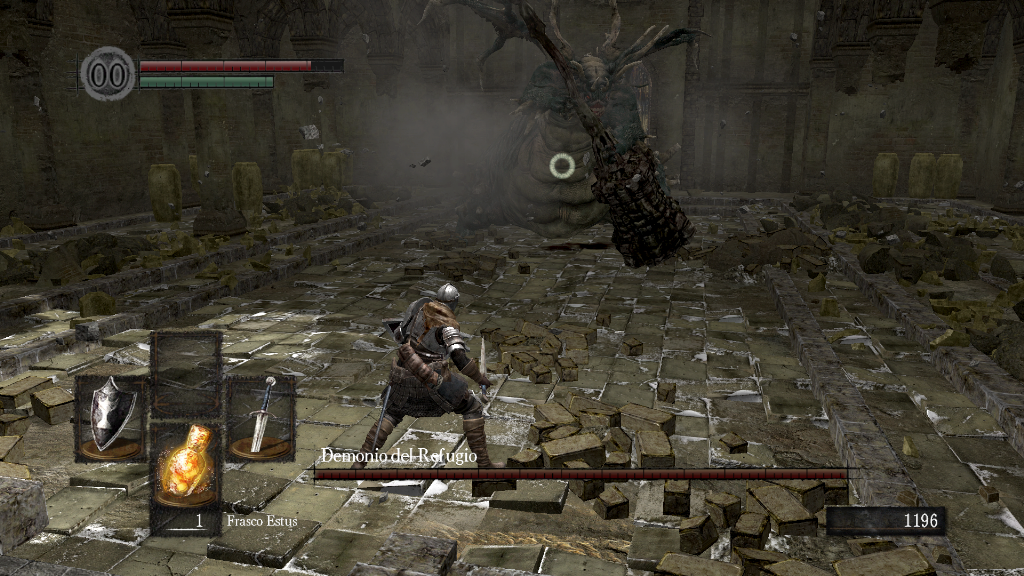asylumDemon: (418, 1, 718, 270)
bossHP: (314, 469, 847, 479)
health: (138, 58, 343, 71)
humanity: (80, 45, 136, 102)
player: (350, 280, 516, 481)
souls: (825, 506, 945, 536)
stamina: (138, 74, 274, 88)
